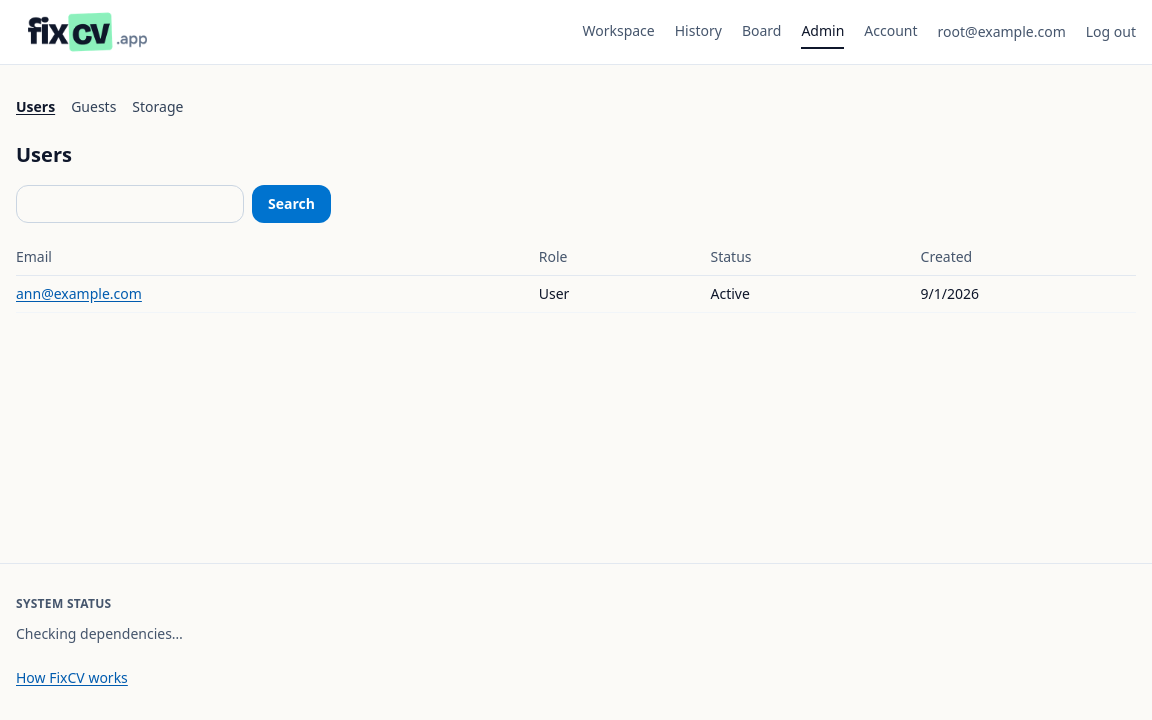
Scenario: /admin user list — AC-32 search › a 422 invalid_search says "That search can't be used." and keeps the typed text
Expected: the link "ann@example.com" is shown, [16,284,142,303]
Type "%%" into the search field named "Search by email" at (130, 204), box [16,185,244,223]
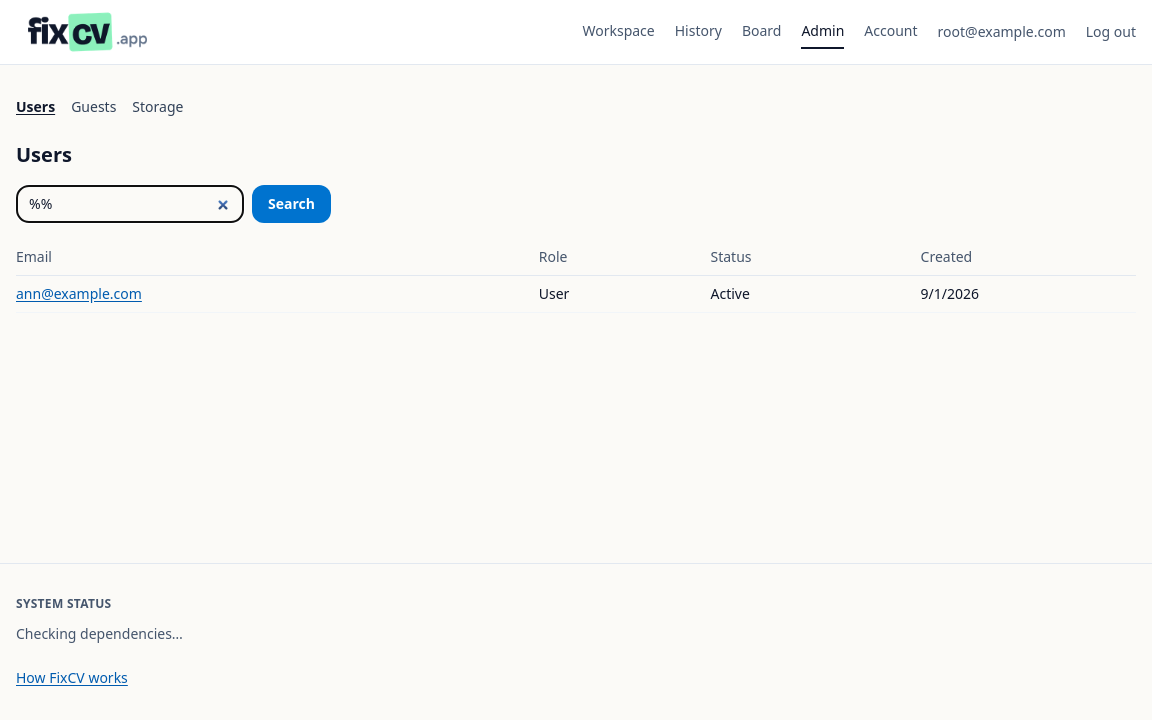
Click the button "Search" at (291, 204), box [252,185,331,223]
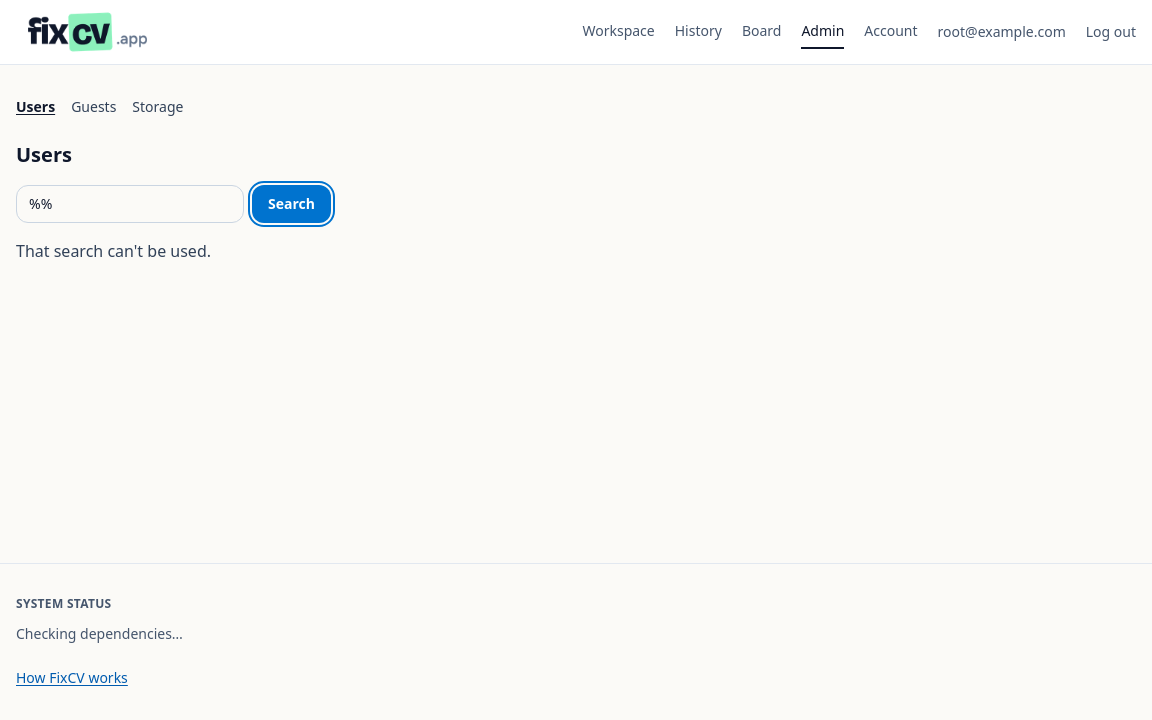
Expected: the heading "Users" is shown, [16,141,72,168]
Result: the search field named "Search by email" holds "%%" at [16,185,244,223]
Result: the text "That search can't be used." is shown at [16,240,211,262]
